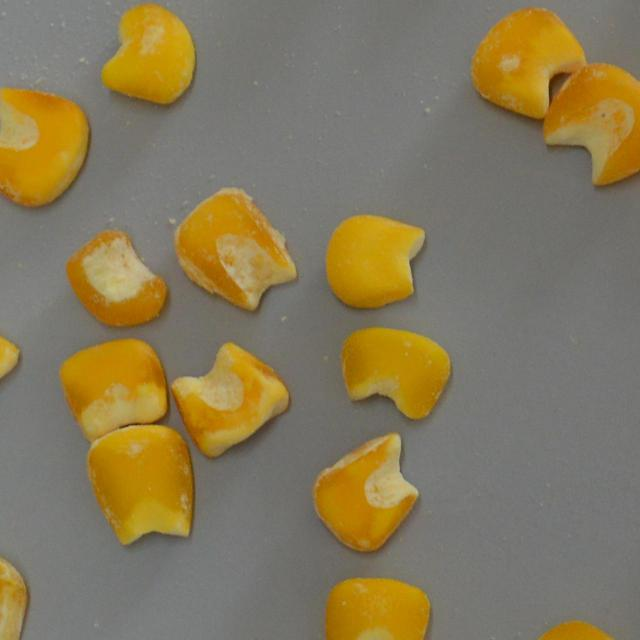no_canjicado: (168, 340, 289, 458), (58, 336, 169, 439), (339, 326, 450, 420), (323, 214, 426, 312), (324, 576, 430, 640)
pelicula: (172, 187, 298, 313), (309, 428, 418, 552), (86, 422, 194, 546), (470, 6, 587, 120), (540, 61, 640, 188), (0, 86, 88, 206), (64, 228, 166, 328), (99, 2, 198, 104), (0, 548, 32, 640), (514, 619, 636, 640), (0, 316, 18, 428)
